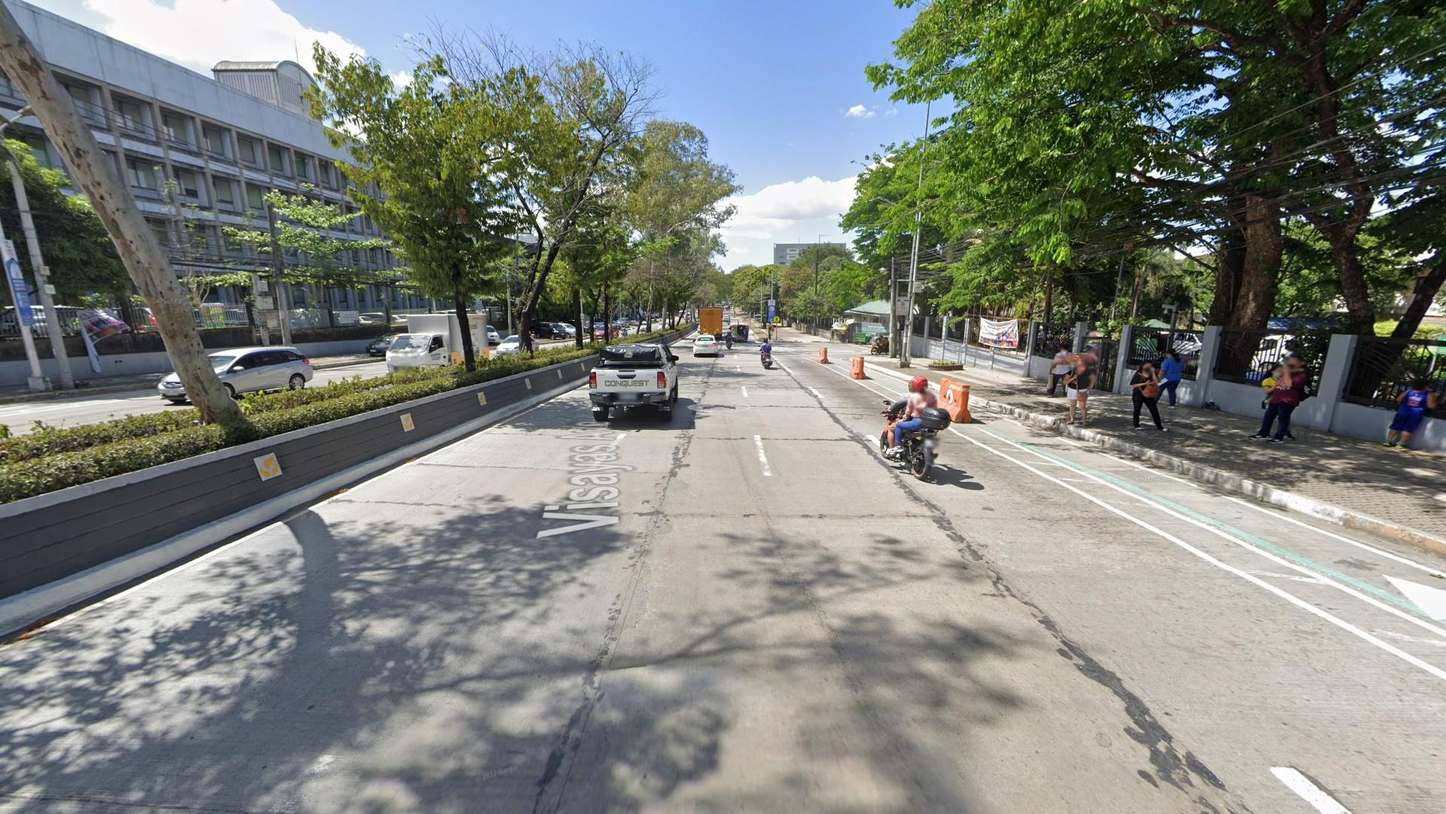pedestrian: (1248, 353, 1311, 443), (1381, 377, 1441, 452), (1129, 358, 1169, 433), (1260, 363, 1297, 441), (1062, 356, 1097, 426), (1149, 348, 1185, 409), (1044, 344, 1072, 397), (828, 328, 835, 345)
